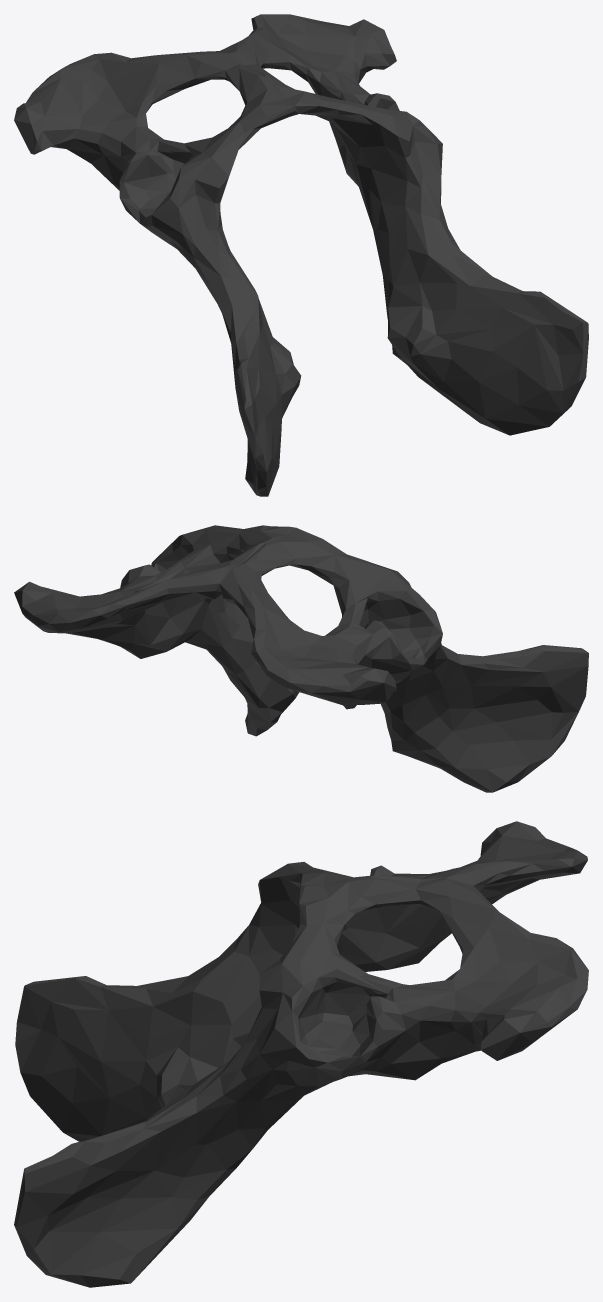
File: Pelvis.glb
3 views of the same model, one above another, from view 1: azimuth 30°, elevation 25°; view 2: azimuth 150°, elevation 25°; view 3: azimuth 270°, elevation 25° (orthographic). The views are drawn at different scales.
Visible parts, largest first — view 1: Pelvis; view 2: Pelvis; view 3: Pelvis.
Boxes of the visible parts, x1,y1,x2,y2 form: Pelvis: (14,14,588,496); Pelvis: (14,525,588,792); Pelvis: (14,821,588,1287).
Bounding box in the file's own units: 0.00412 × 0.00319 × 0.00487.
Materials: 1 (1 with a texture image).
